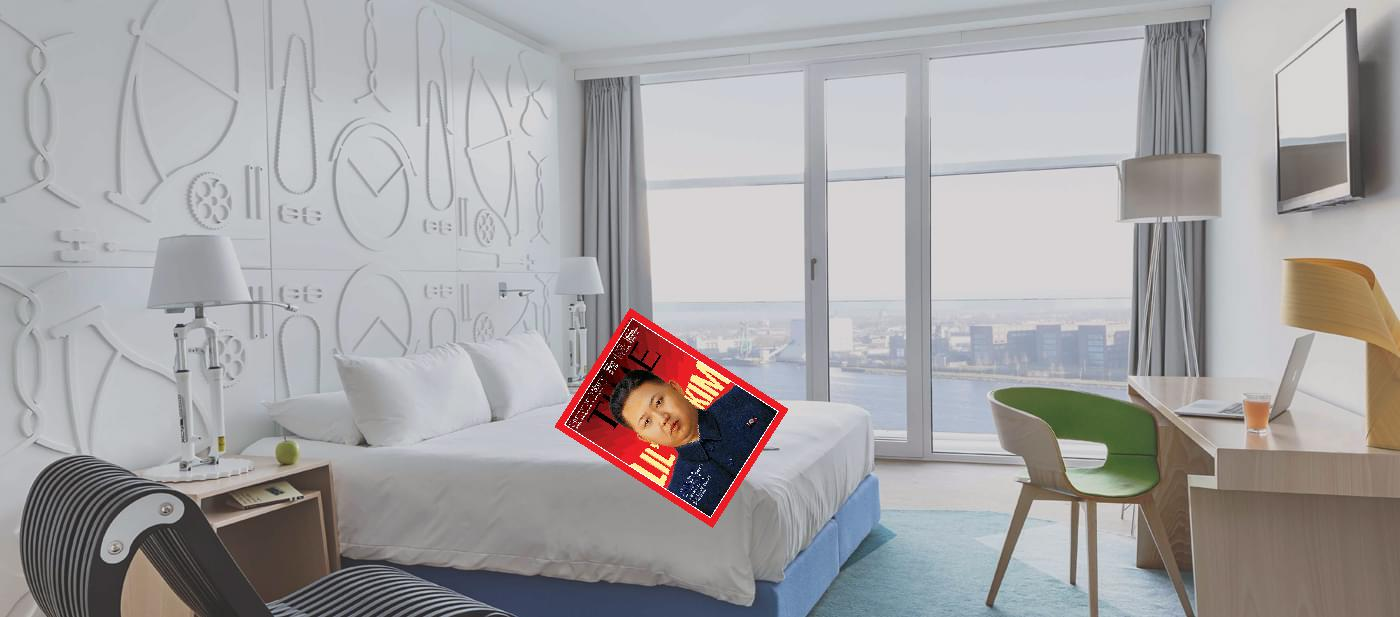times: (550, 303, 786, 526)
